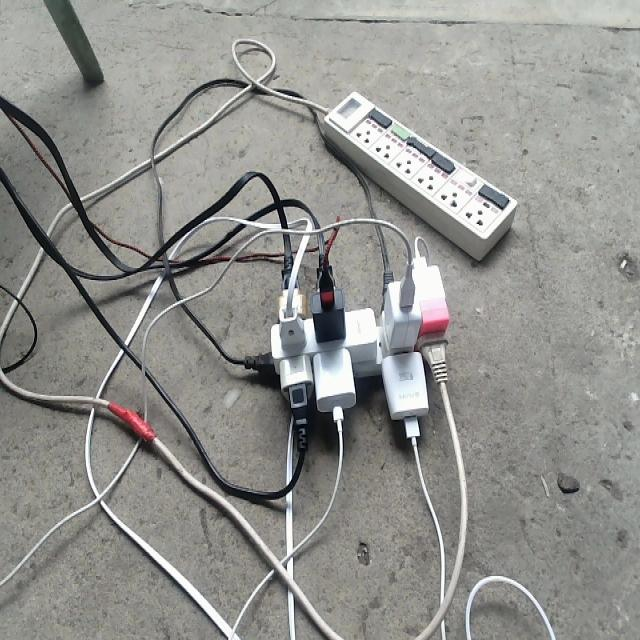-: (253, 260, 450, 439)
